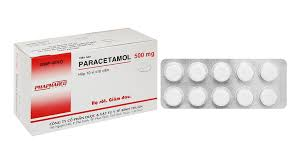Paracetamol: (77, 56, 131, 64)
